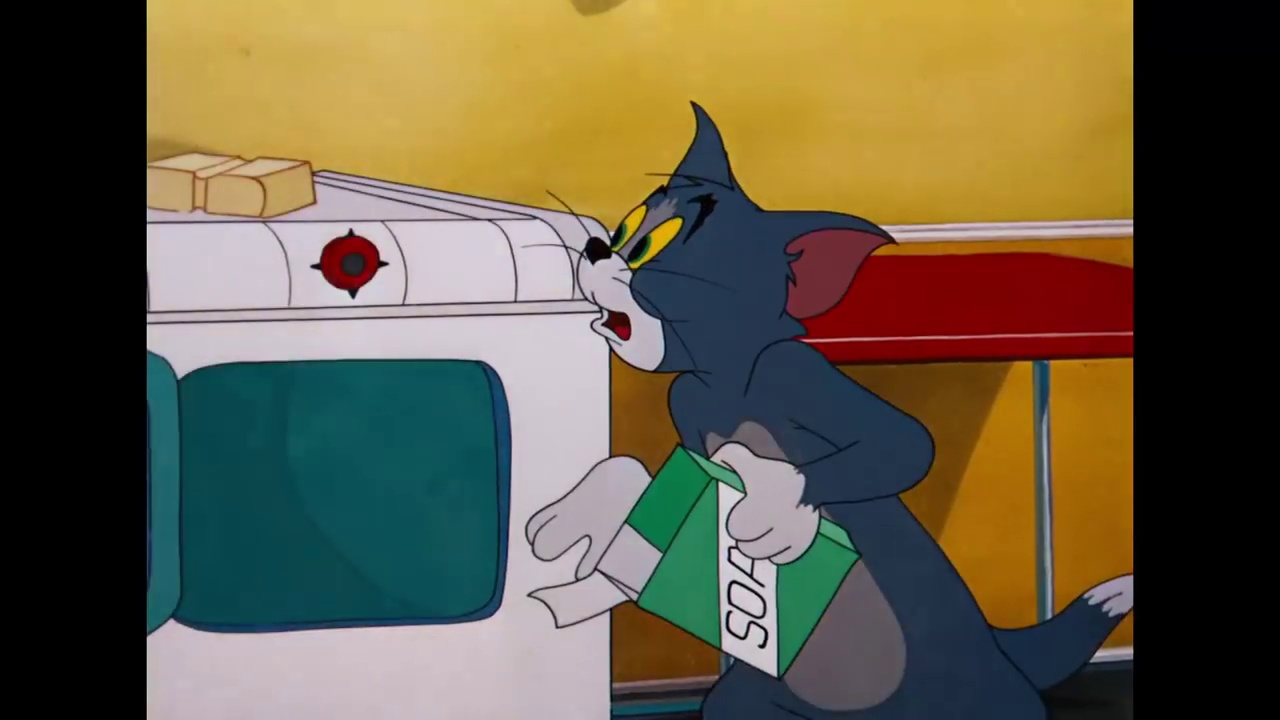tom: (565, 91, 902, 386)
